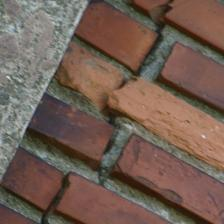Crack: (0, 41, 94, 134), (10, 0, 62, 166)
